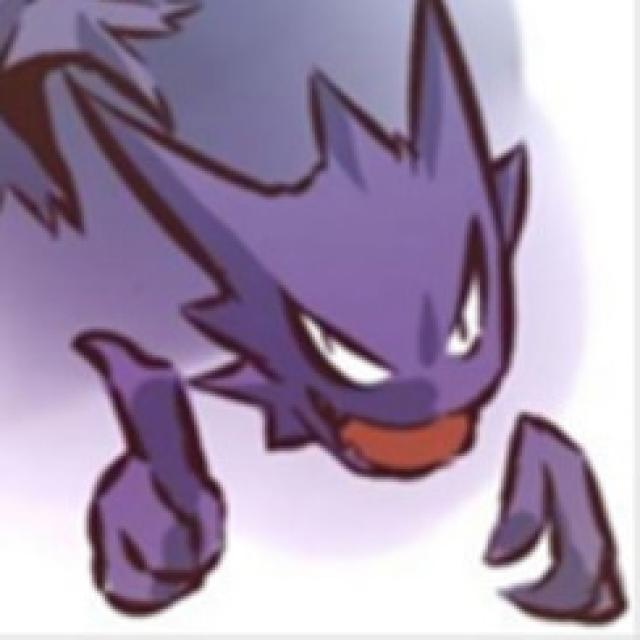Haunter: (146, 69, 533, 485)
